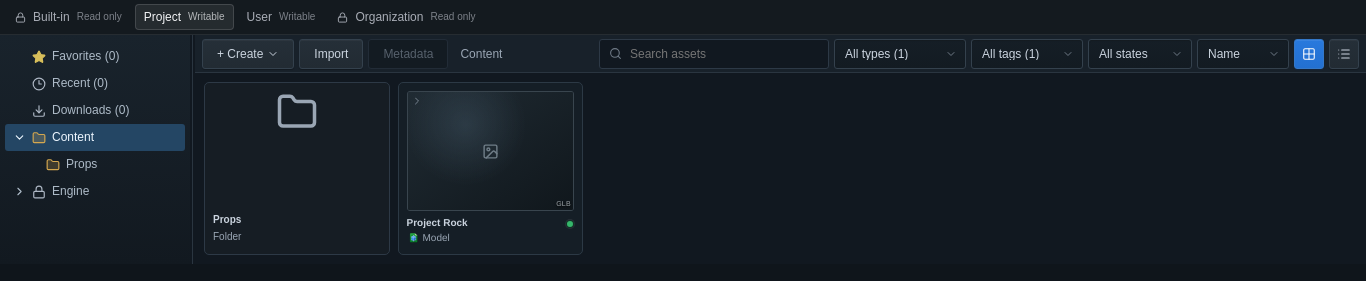
Scenario: ContentBrowserPanel logical scopes › hides internal built-in shader sources from Engine and cross-scope search
Click the button "Built-in Read only": coordinates (68, 17) left=6, top=4, right=131, bottom=30
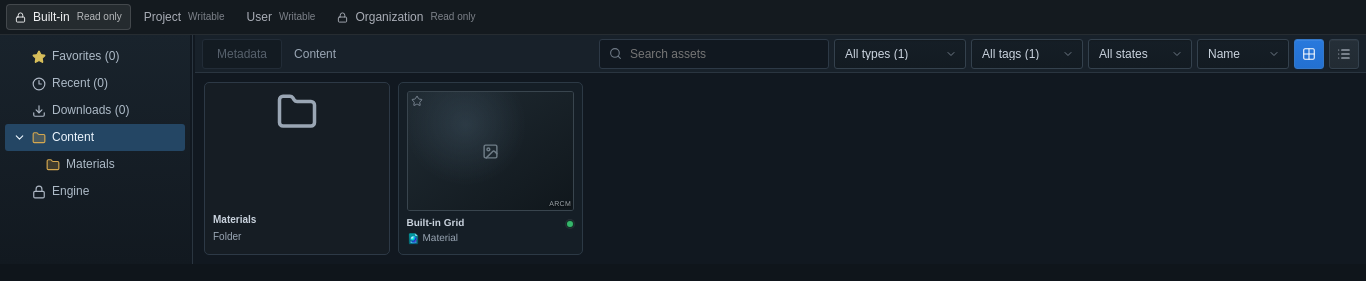
Check: the text "Deferred Lighting" is not shown
Check: the text "Built-in Grid" is shown, box left=406, top=218, right=464, bottom=229
Click the button "Project Writable": coordinates (184, 17) left=135, top=4, right=234, bottom=30
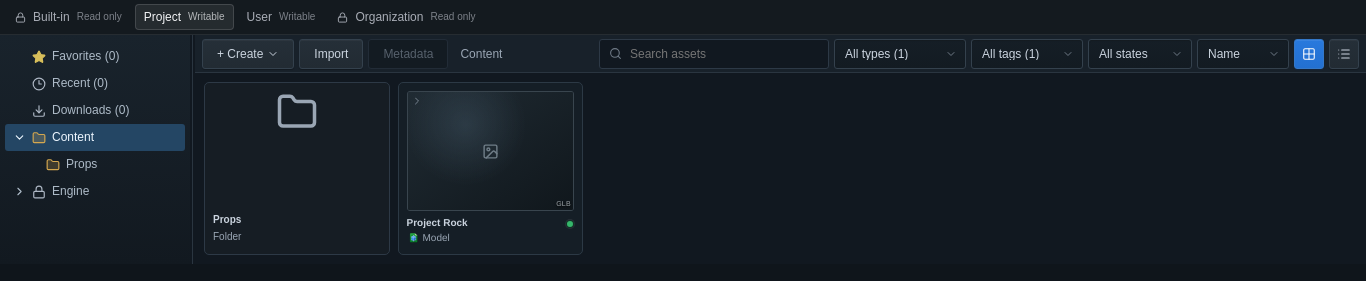
In the search field labelled "Search assets": coordinates (714, 54) left=599, top=38, right=829, bottom=68, type "deferred lighting"
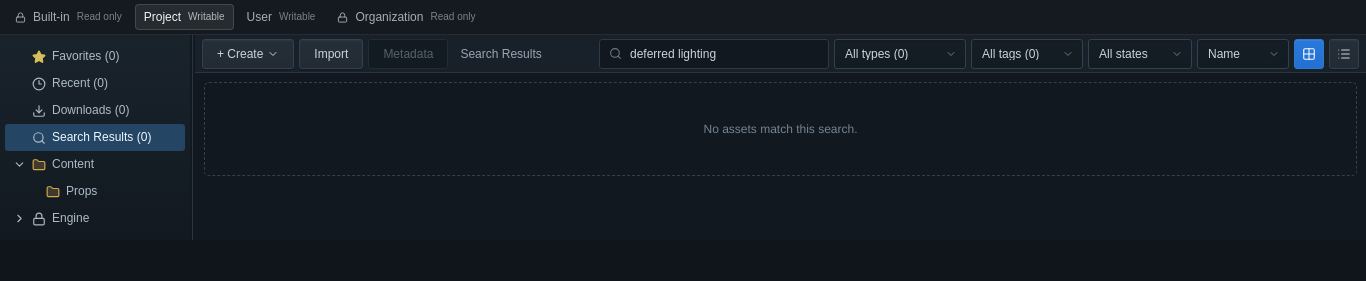
Check: the text "Search Results (0)" is shown, box left=52, top=129, right=151, bottom=146
